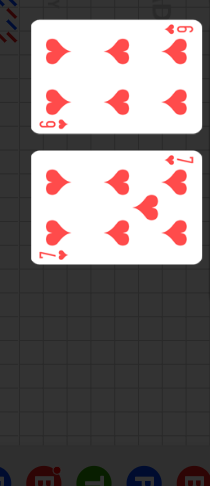6H: (163, 23, 195, 36)
7H: (38, 248, 70, 261)
